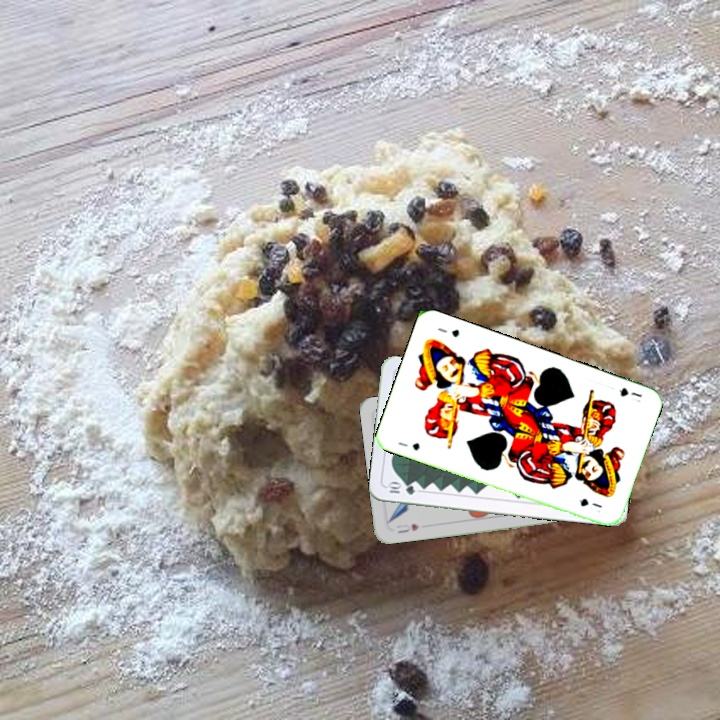G10: (383, 480, 417, 497)
GU: (615, 383, 644, 405), (394, 438, 422, 453)
HU: (392, 520, 422, 536)
